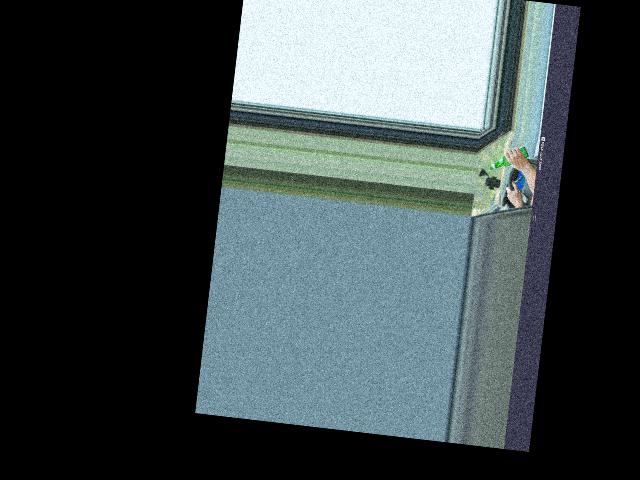beer: (489, 143, 530, 174)
